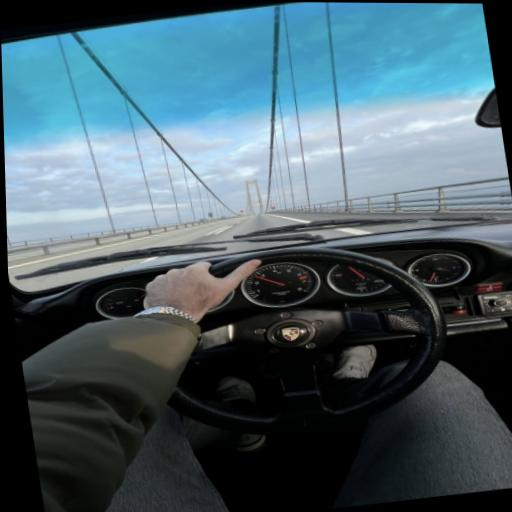Hands-on-the-Wheel: (89, 240, 291, 334)
